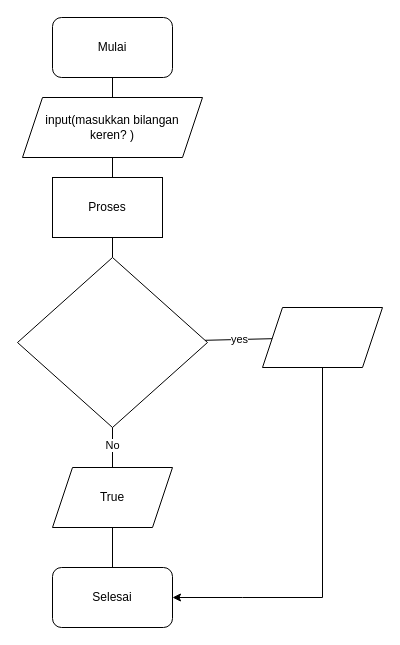
This 400x645 diagram has some shape labels left out. Each missing label, with the centre of its shape:
"False" belongs at (x=322, y=337).
"if bil_keren modulo 2 sama dengan 0 dan bil-keren bukan sama dengan 1" belongs at (x=112, y=342).
